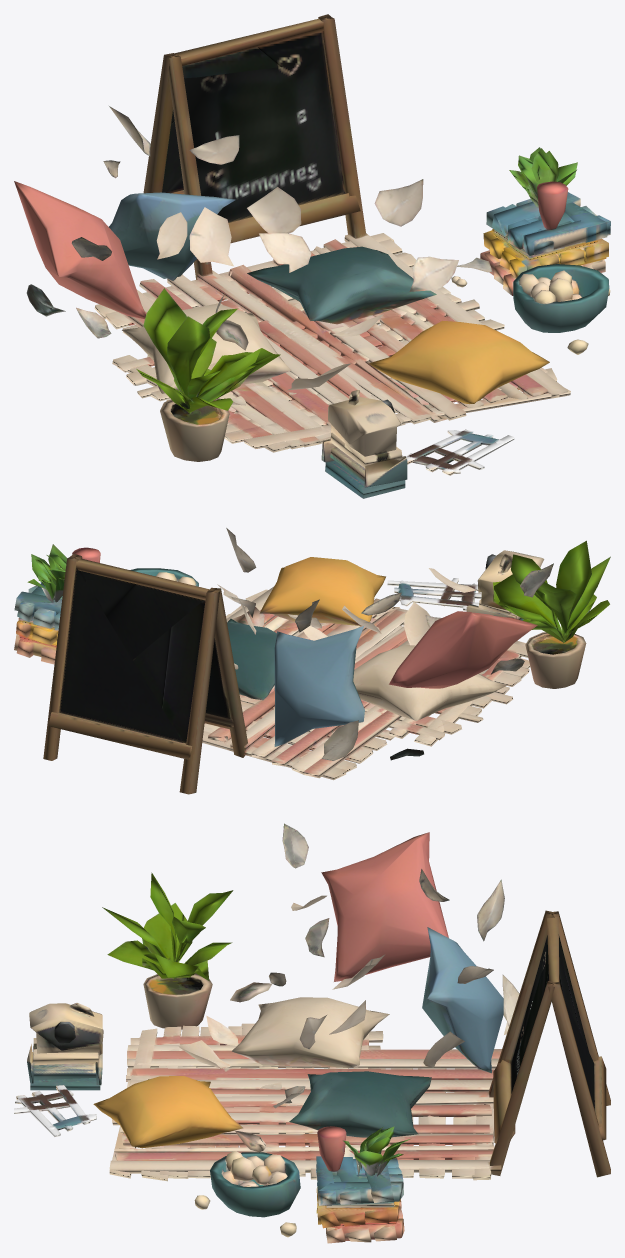
Rendered from durachilis.glb.
3 views of the same model, one above another, from view 1: azimuth 30°, elevation 25°; view 2: azimuth 150°, elevation 25°; view 3: azimuth 270°, elevation 25° (orthographic). The views are drawn at different scales.
Visible parts, largest first — view 1: mesh_node; view 2: mesh_node; view 3: mesh_node.
Boxes of the visible parts, x1=… form: mesh_node: x1=14, y1=14, x2=610, y2=498; mesh_node: x1=14, y1=528, x2=610, y2=794; mesh_node: x1=14, y1=823, x2=610, y2=1243.
Bounding box in the file's own units: 0.9922 × 0.3711 × 1.
Materials: 1 (1 with a texture image).
